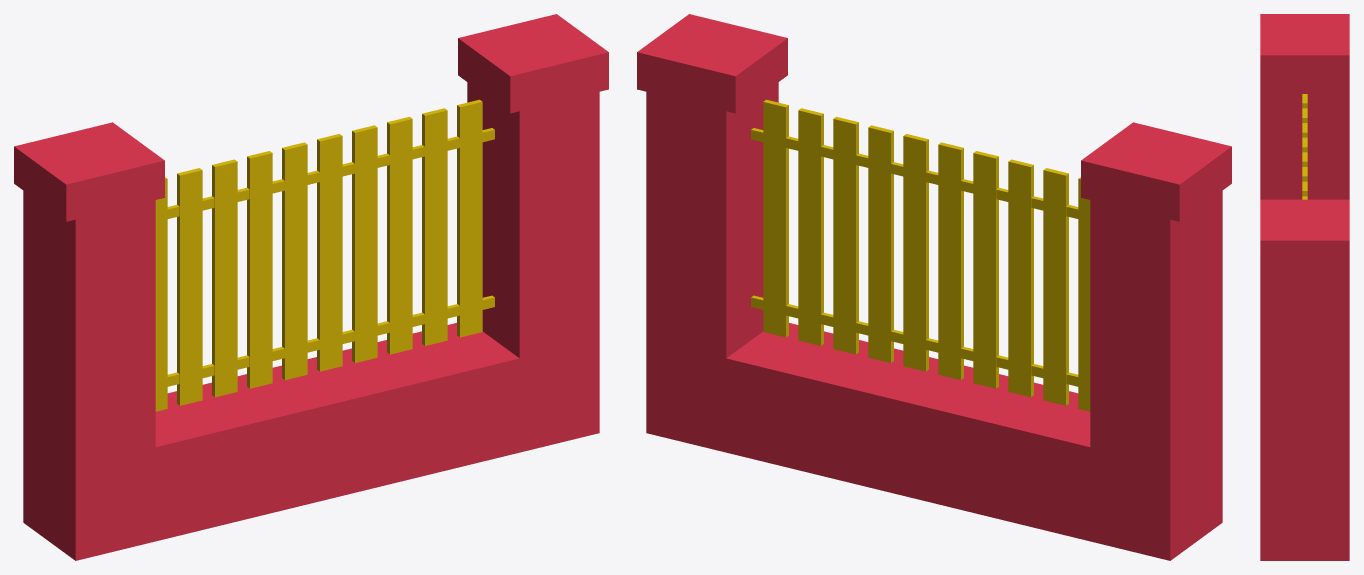
File: fencing_angle.fbx
The picture shows the model from 3 angles, left to right: view 1: azimuth 30°, elevation 25°; view 2: azimuth 150°, elevation 25°; view 3: azimuth 270°, elevation 25°; orthographic projection. The views are drawn at different scales.
Parts seen in each view (by area): view 1: fencing; view 2: fencing; view 3: fencing.
Boxes of the visible parts, x1,y1,x2,y2 form: fencing: (14, 14, 608, 560); fencing: (637, 14, 1231, 560); fencing: (1260, 14, 1349, 560).
Bounding box in the file's own units: 300 × 200 × 50.
